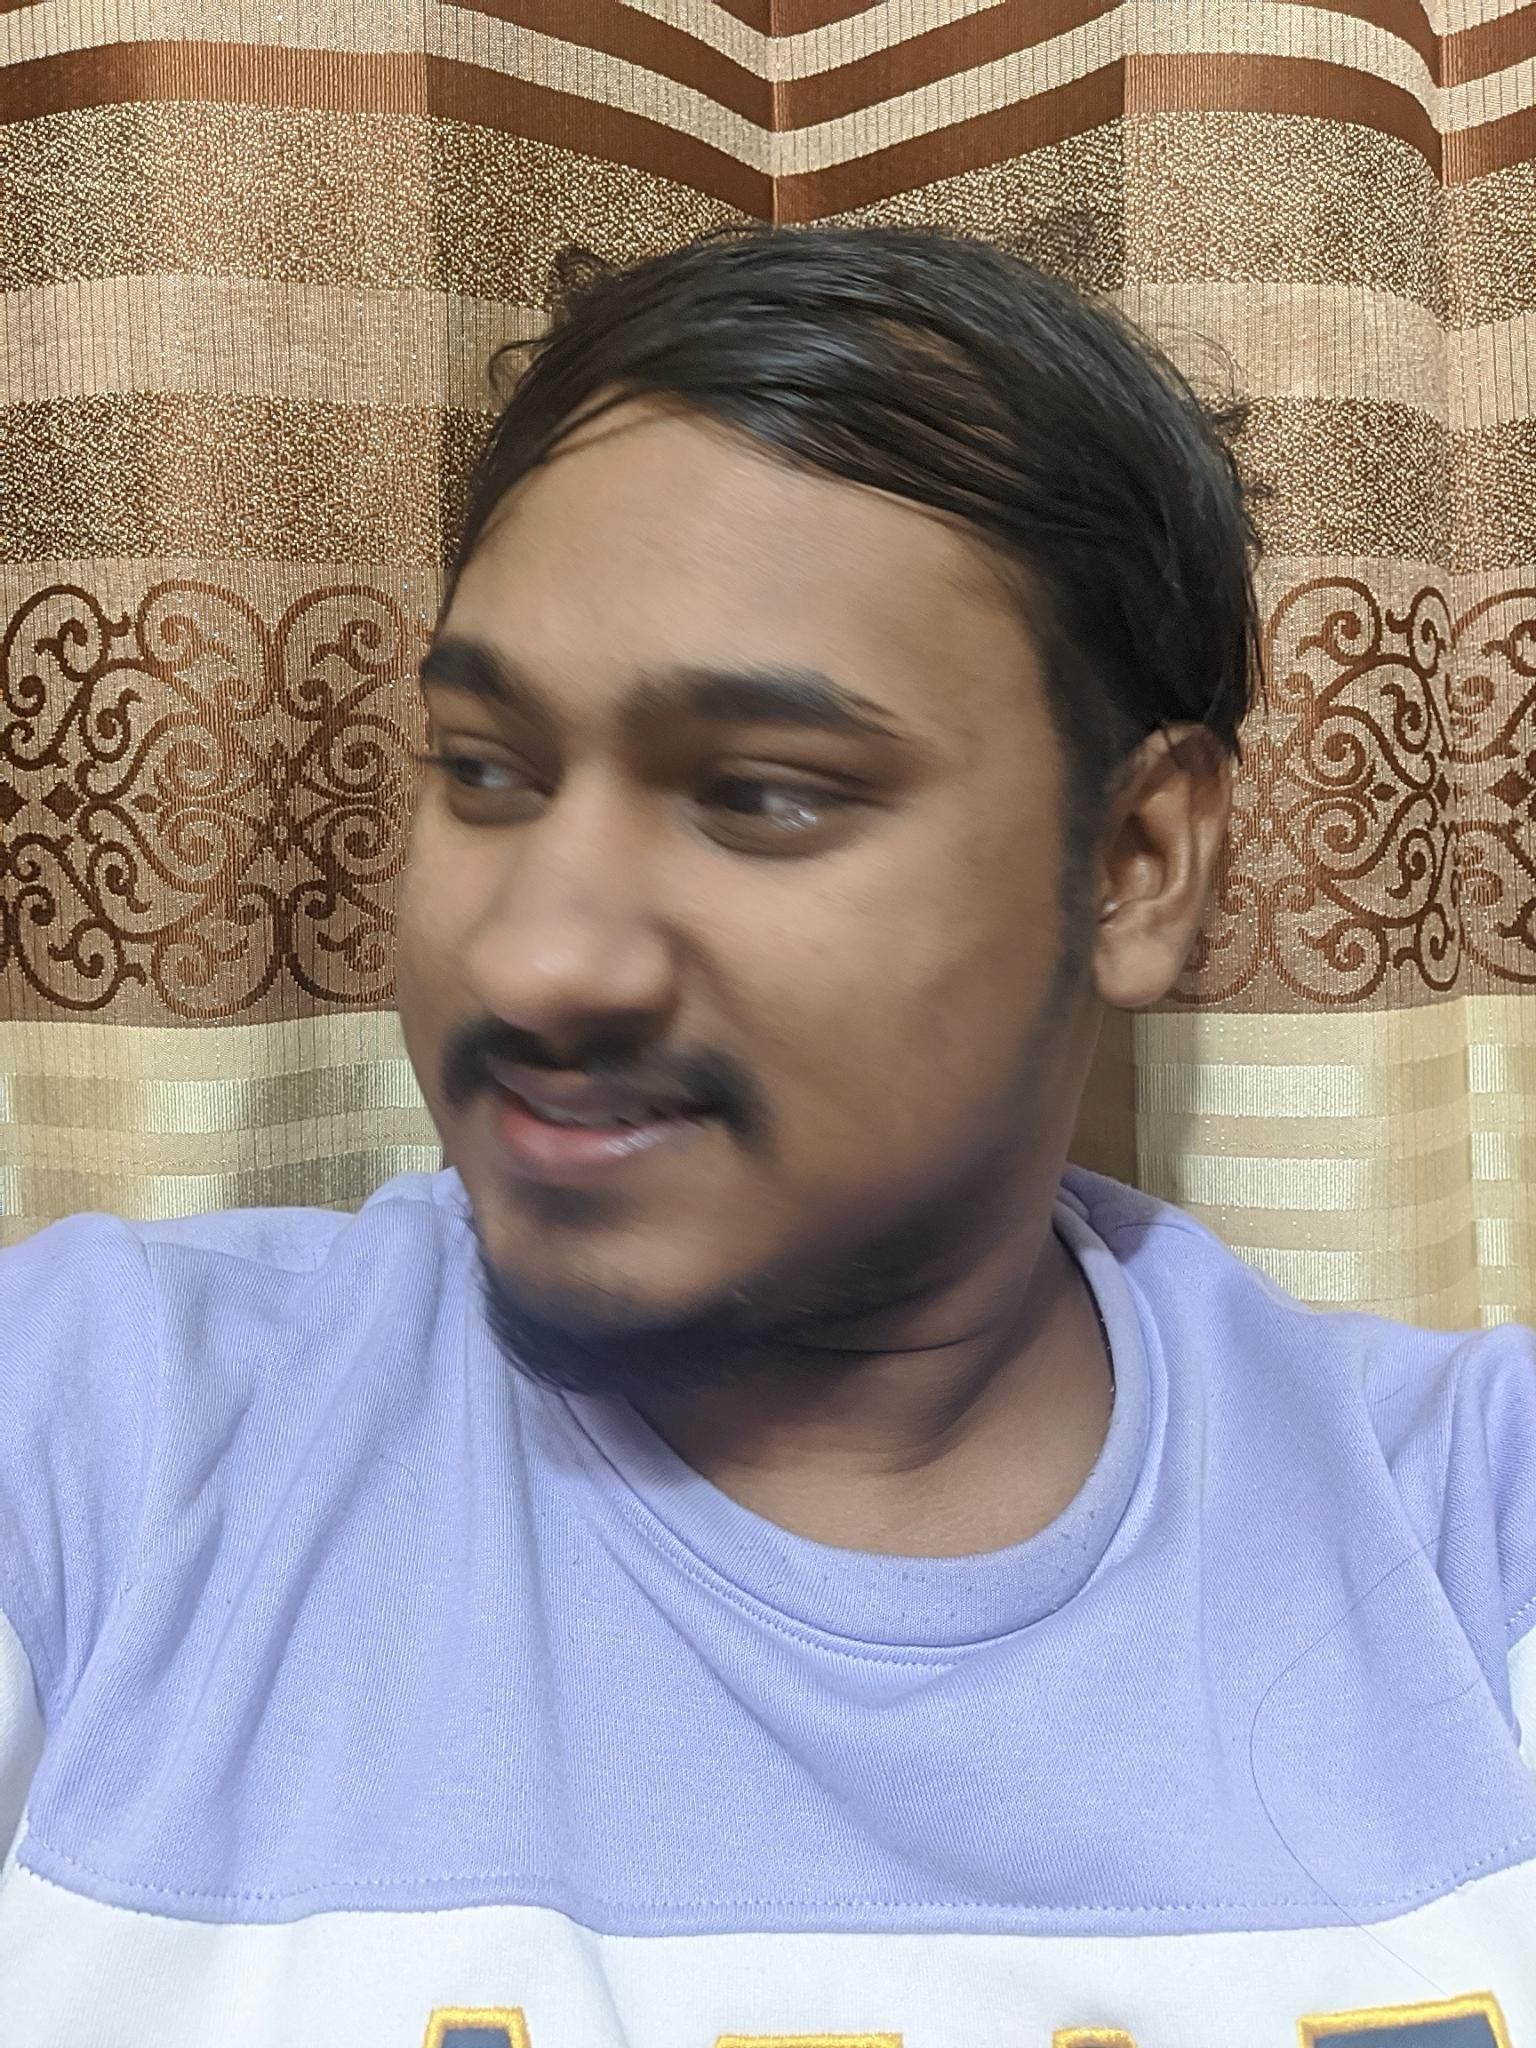Happy: (369, 495, 1016, 1361)
